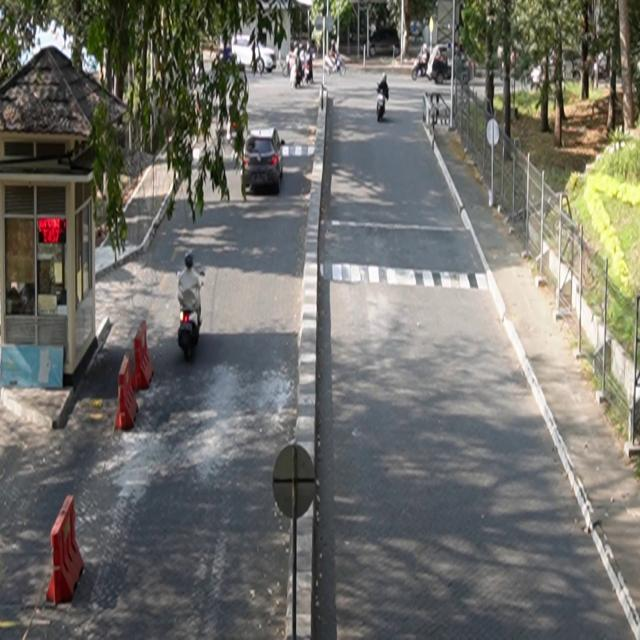car: (242, 128, 285, 195)
